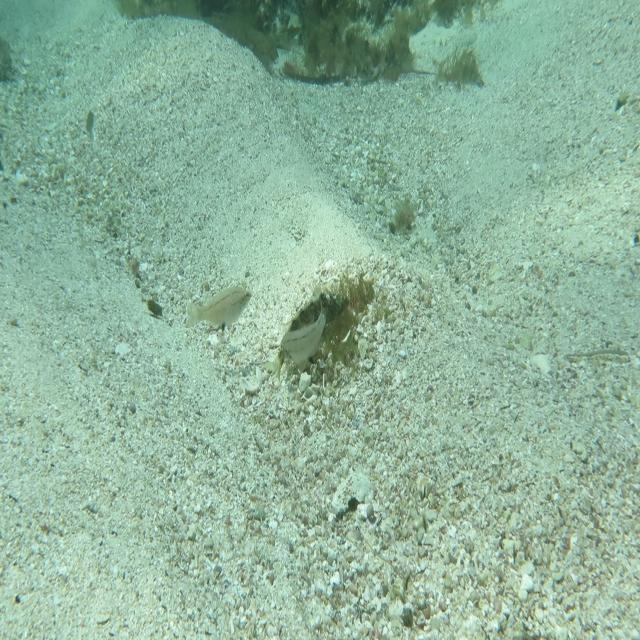Coris_julis_female: (80, 105, 108, 145)
LF: (266, 280, 355, 388)
female: (279, 288, 332, 369)
nest: (290, 271, 387, 386)
other_fish: (184, 275, 255, 347)
